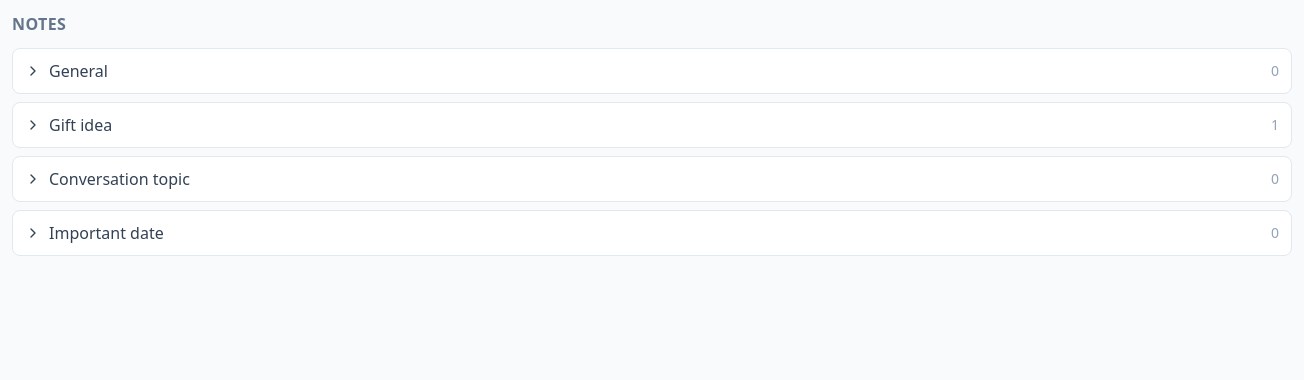
Test case: EntityNotes › lists existing notes with their category badge, once the section is expanded
Expected: the text "Concert tickets" is not shown
Step 1. Click the button "Gift idea 1" → [81, 125], box [13,103,1291,147]
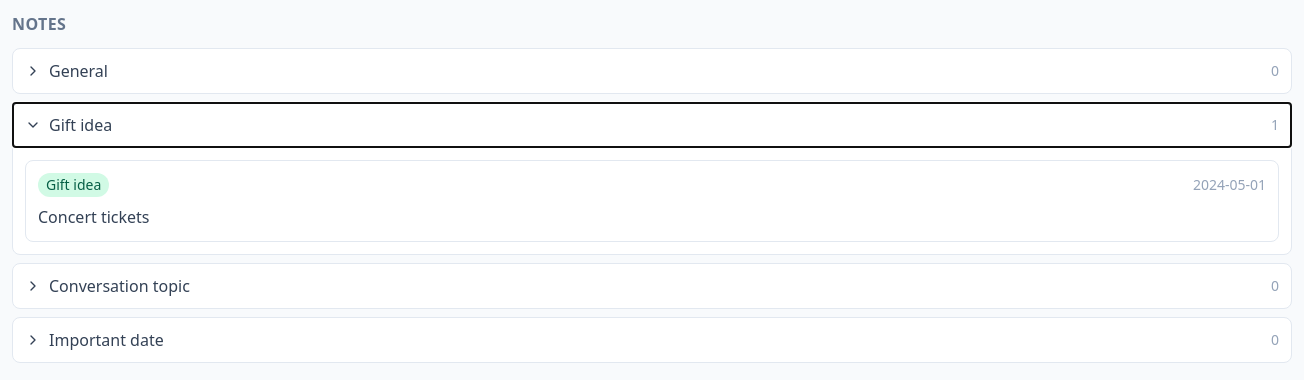
Result: the text "Concert tickets" is shown at [38,206,150,228]
